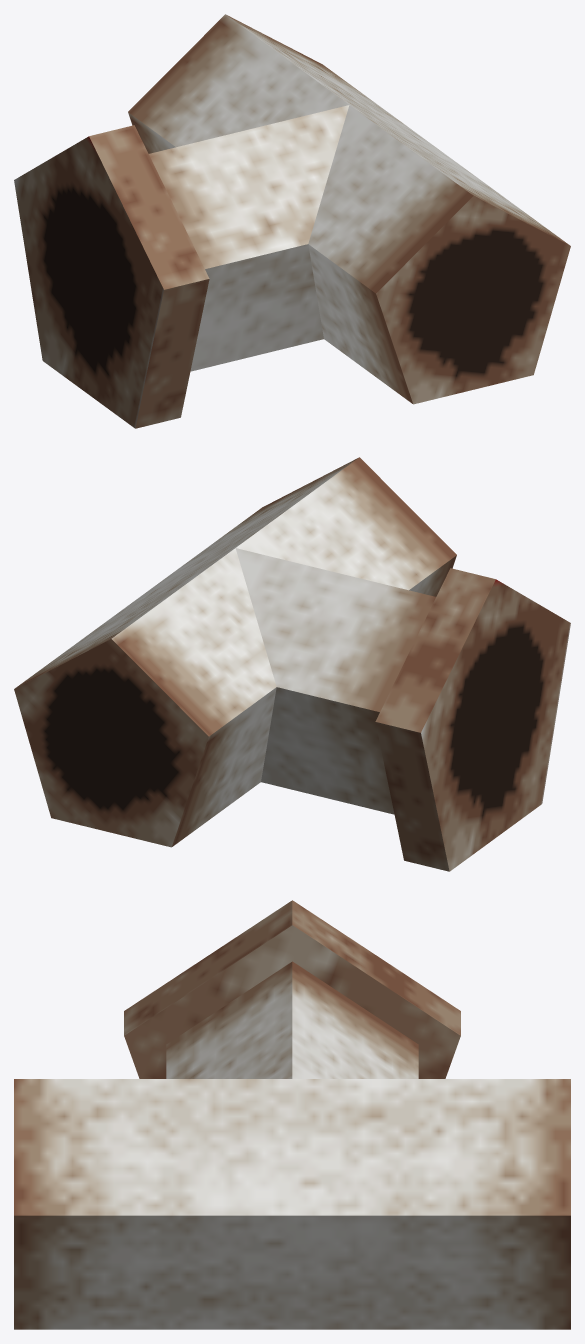
Rendered from tee.glb.
3 views of the same model, one above another, from view 1: azimuth 30°, elevation 25°; view 2: azimuth 150°, elevation 25°; view 3: azimuth 270°, elevation 25° (orthographic). The views are drawn at different scales.
Parts seen in each view (by area): view 1: Pipe T; view 2: Pipe T; view 3: Pipe T.
Boxes of the visible parts, x1=… form: Pipe T: x1=14, y1=14, x2=570, y2=428; Pipe T: x1=14, y1=457, x2=570, y2=871; Pipe T: x1=14, y1=900, x2=570, y2=1329.
Size of the model in its own units: 0.3929 by 0.2714 by 0.4719.
1 material, 1 textured.
